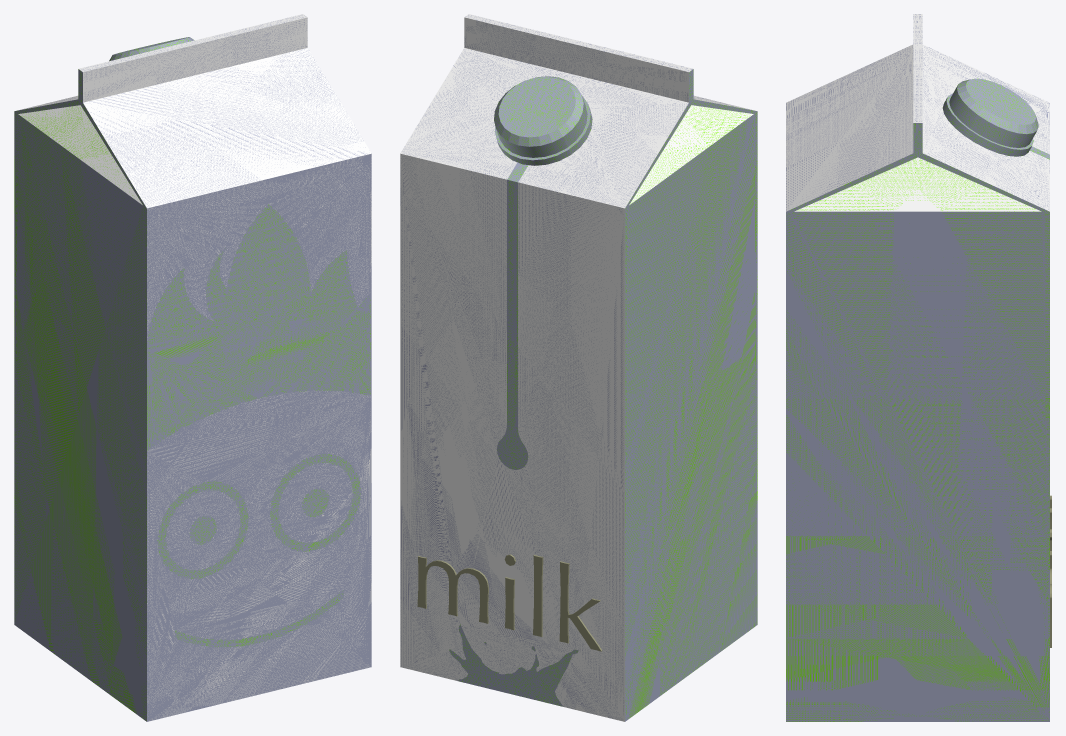
File: milk.obj
The picture shows the model from 3 angles, left to right: view 1: azimuth 30°, elevation 25°; view 2: azimuth 150°, elevation 25°; view 3: azimuth 270°, elevation 25°; orthographic projection.
Parts seen in each view (by area): view 1: ID85, ID183, ID49, ID75, ID151, ID143, ID125, ID135, ID175, ID167, ID159; view 2: ID49, ID85, ID93, ID65, ID101, ID33, ID5, ID41; view 3: ID85, ID49, ID93, ID65.
Boxes of the visible parts, x1,y1,x2,y2 form: ID85: (14,69,371,721); ID183: (147,390,371,721); ID49: (16,14,371,208); ID75: (147,153,371,345); ID151: (166,490,240,570); ID143: (278,462,352,542); ID125: (157,481,248,579); ID135: (270,454,360,551); ID175: (175,589,343,647); ID167: (302,488,328,517); ID159: (189,516,216,544); ID49: (400,14,755,721); ID85: (625,69,757,721); ID93: (494,76,587,157); ID65: (494,96,592,469); ID101: (449,624,578,706); ID33: (417,556,488,623); ID5: (559,561,602,651); ID41: (533,554,543,636); ID85: (786,123,1049,721); ID49: (786,14,1049,211); ID93: (949,78,1038,147); ID65: (942,93,1049,159).
Bounding box in the file's own units: 3.01 × 7.71 × 3.1.
